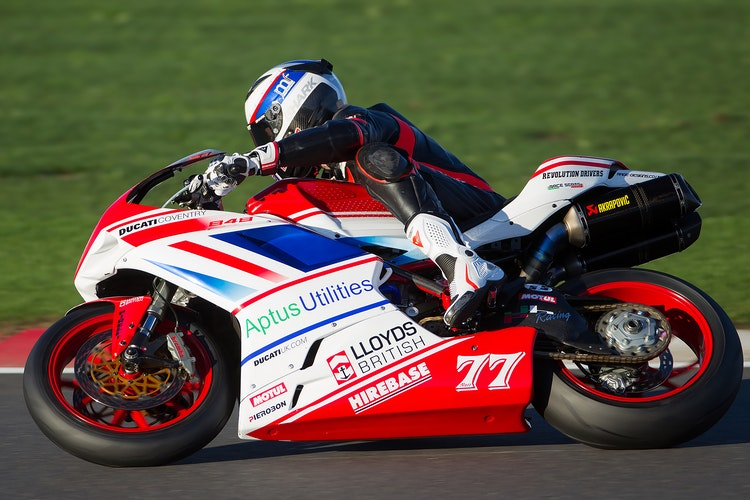helmet: (242, 57, 351, 152)
